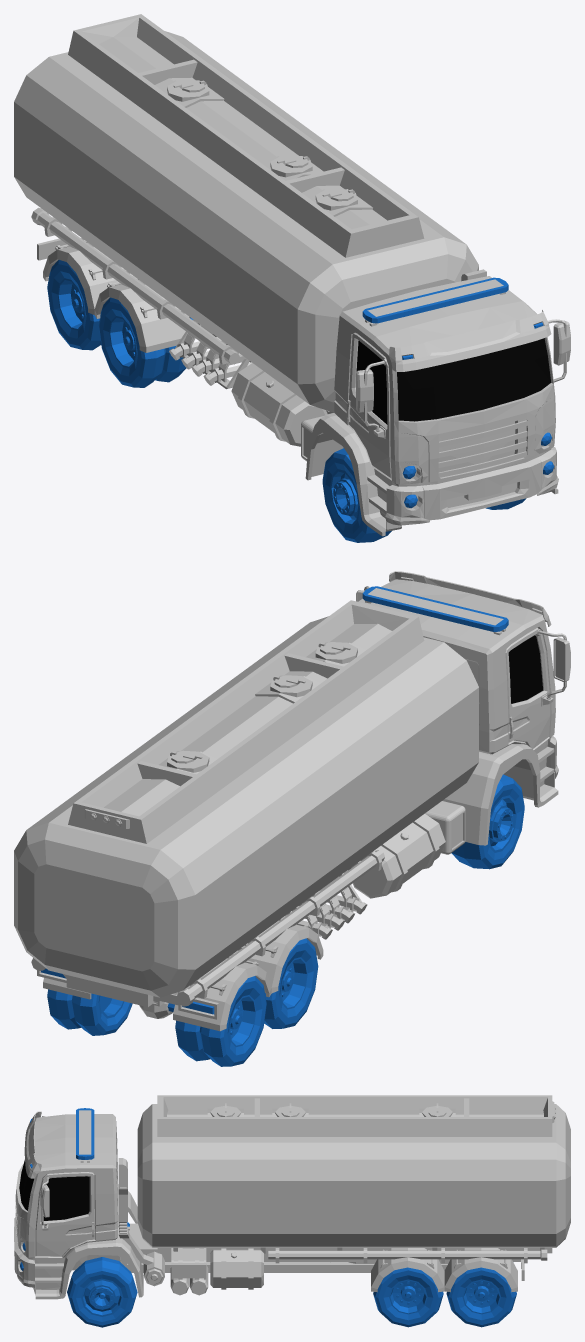
Rendered from SM_fuel_truck.fbx.
The picture shows the model from 3 angles, top to bottom: view 1: azimuth 30°, elevation 25°; view 2: azimuth 150°, elevation 25°; view 3: azimuth 270°, elevation 25°; orthographic projection. The views are drawn at different scales.
Parts seen in each view (by area): view 1: Symmetry_7, Oil_Tank_3, Oil_Tank_4, Oil_Tank_2; view 2: Symmetry_7, Oil_Tank_4, Oil_Tank_2, Oil_Tank_3; view 3: Symmetry_7, Oil_Tank_1, Oil_Tank_4, Oil_Tank_3.
Part boxes in pixels (left/top/right/bottom): Symmetry_7: left=14, top=14, right=570, bottom=536; Oil_Tank_3: left=98, top=297, right=193, bottom=387; Oil_Tank_4: left=47, top=260, right=101, bottom=350; Oil_Tank_2: left=322, top=448, right=391, bottom=542; Symmetry_7: left=14, top=571, right=570, bottom=1031; Oil_Tank_4: left=47, top=976, right=266, bottom=1066; Oil_Tank_2: left=451, top=774, right=524, bottom=869; Oil_Tank_3: left=264, top=938, right=318, bottom=1028; Symmetry_7: left=14, top=1095, right=570, bottom=1299; Oil_Tank_1: left=67, top=1257, right=137, bottom=1327; Oil_Tank_4: left=446, top=1267, right=516, bottom=1327; Oil_Tank_3: left=373, top=1267, right=443, bottom=1327.
Bounding box in the file's own units: 2950 × 3580 × 9395.
